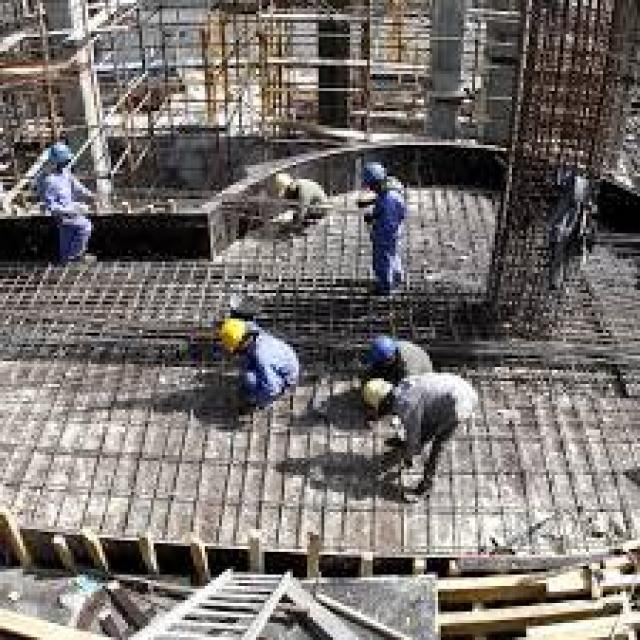Reflective-Jacket: (362, 191, 416, 250)
Safety-Helmet: (208, 310, 264, 361), (350, 372, 401, 423), (358, 330, 404, 370), (37, 136, 80, 174), (356, 157, 392, 190)
